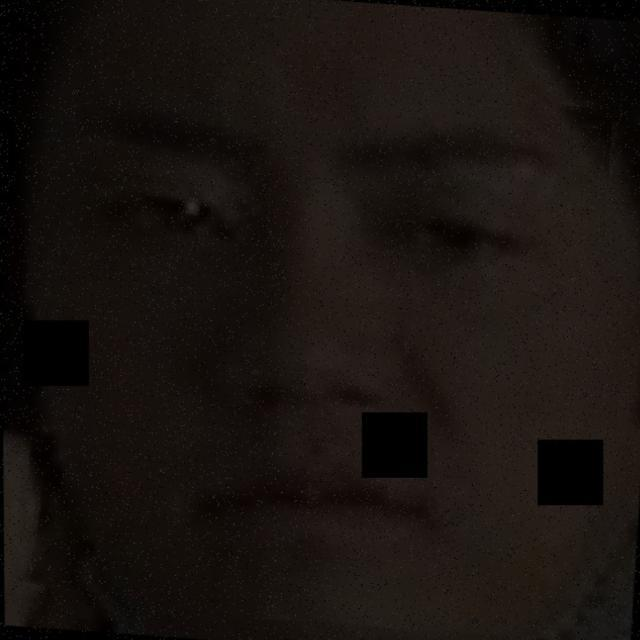Sad: (30, 46, 562, 624)
